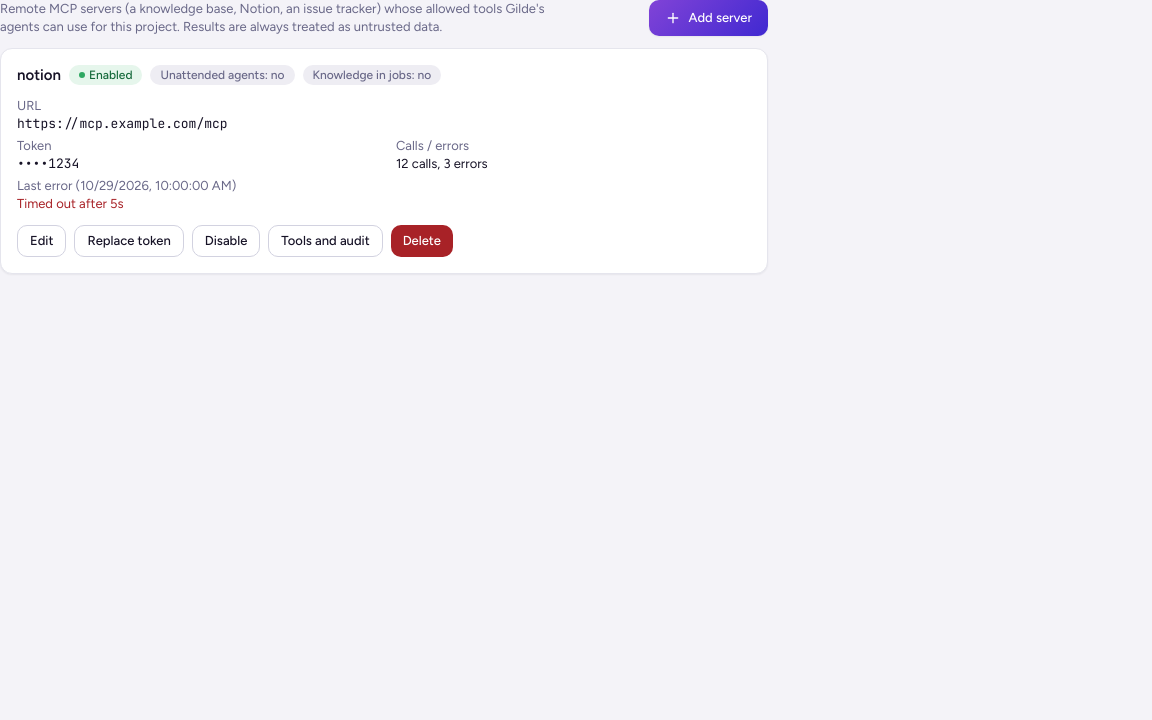
McpServersTab › replaces the token without ever displaying it
Click the button with aria-label "Replace token of notion": (129,241) 74,225 -> 184,257
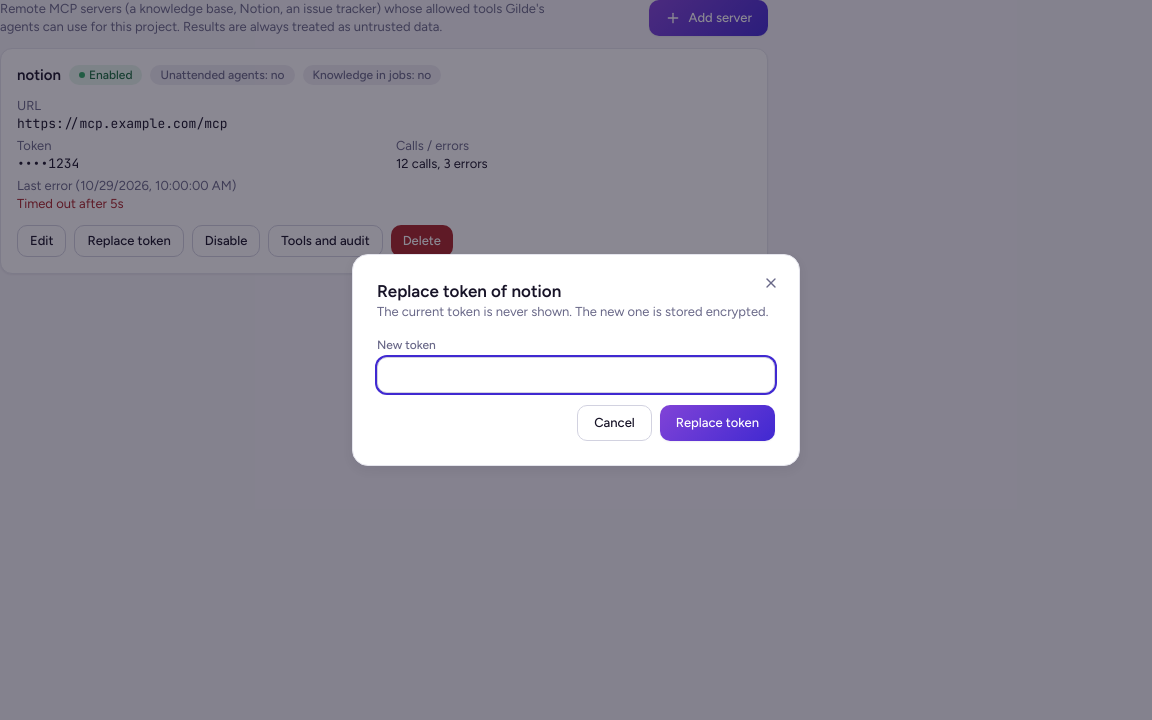
In the password field labelled "New token": (576,375) 377,357 -> 775,393, type "brand-new-secret"
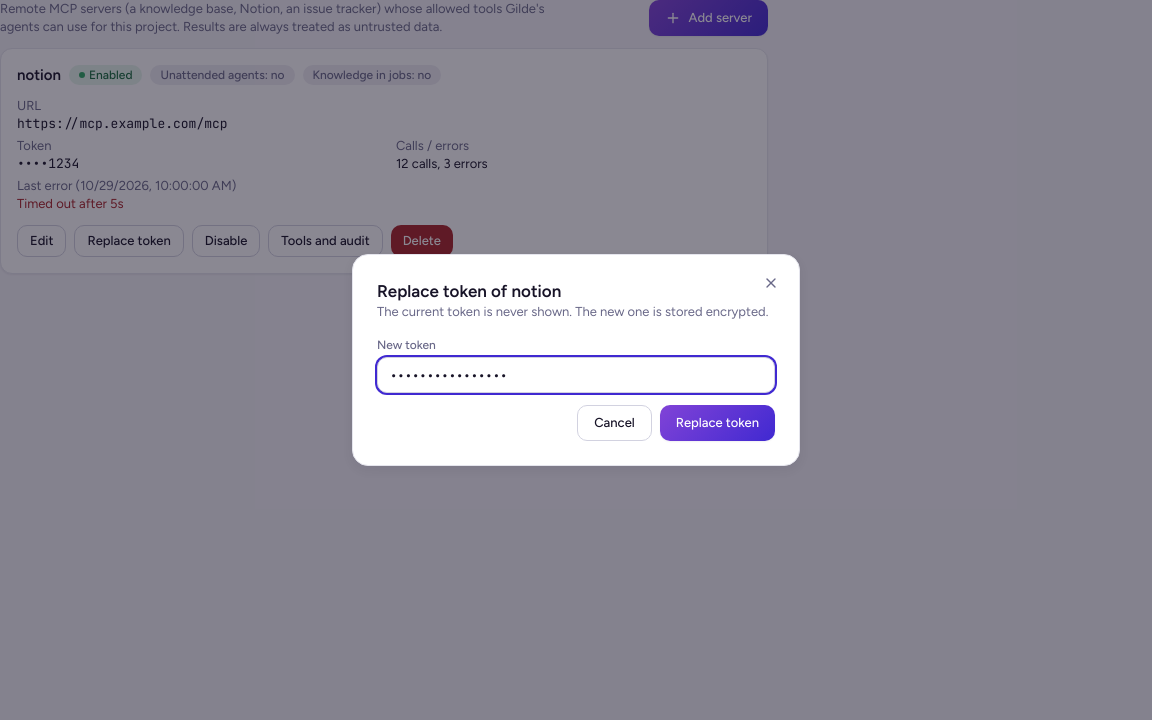
Click the button "Replace token": (717,423) 660,405 -> 775,441
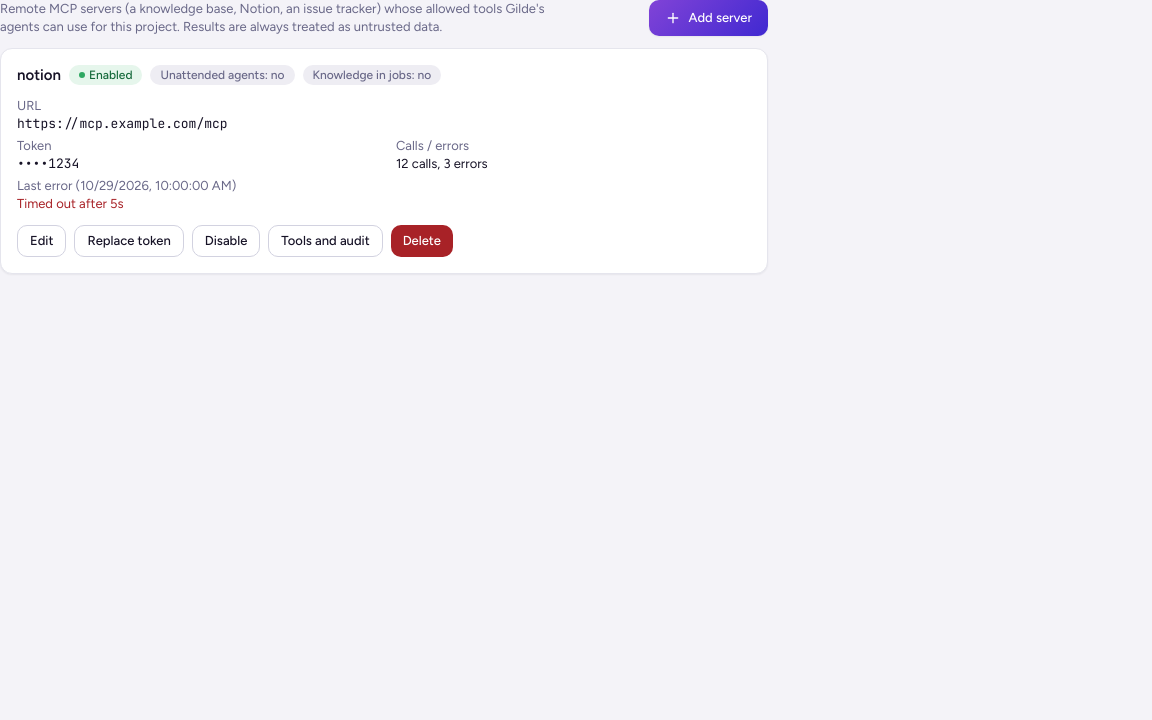
expect the label labelled "New token" is gone: met
